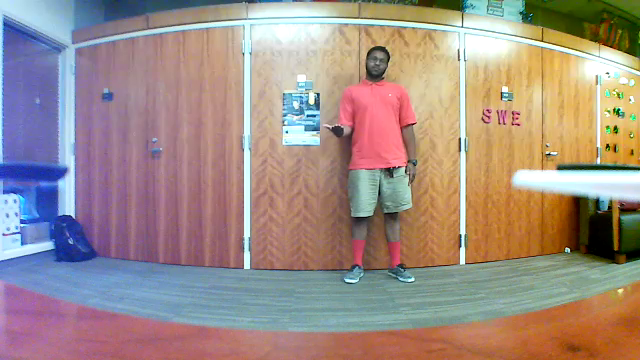land: (322, 119, 349, 139)
